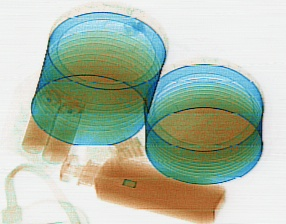pressure: (20, 88, 63, 155), (39, 99, 83, 163)
